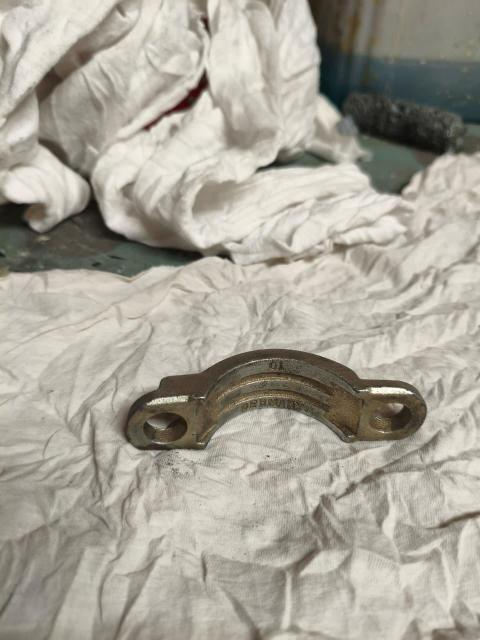Metal: (135, 348, 427, 452)
